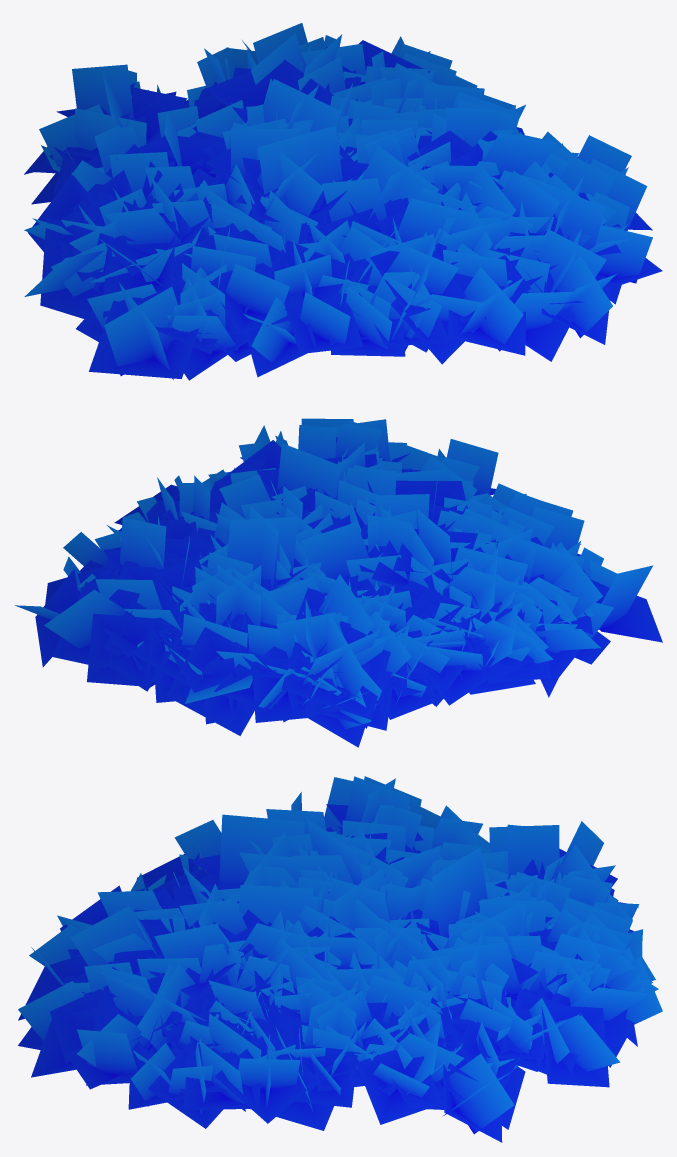
Rendered from SM_Env_Bush_Tropical_03.gltf.
The picture shows the model from 3 angles, top to bottom: view 1: azimuth 30°, elevation 25°; view 2: azimuth 150°, elevation 25°; view 3: azimuth 270°, elevation 25°; orthographic projection. The views are drawn at different scales.
Parts seen in each view (by area): view 1: SM_Env_Bush_Tropical_03_LOD0; view 2: SM_Env_Bush_Tropical_03_LOD0; view 3: SM_Env_Bush_Tropical_03_LOD0.
Boxes of the visible parts, bbox=[...] form: SM_Env_Bush_Tropical_03_LOD0: bbox=[24, 23, 662, 380]; SM_Env_Bush_Tropical_03_LOD0: bbox=[14, 418, 662, 747]; SM_Env_Bush_Tropical_03_LOD0: bbox=[18, 776, 662, 1142].
Bounding box in the file's own units: 4.23 × 1.4 × 4.19.
